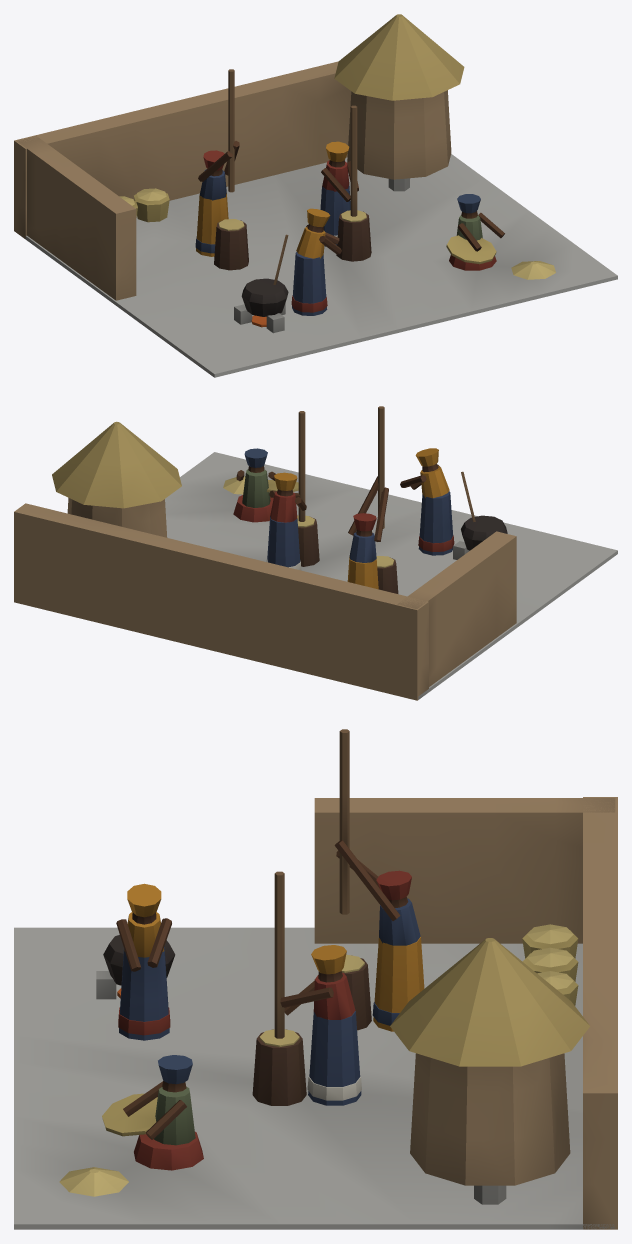
The model's file is bakery.glb.
3 renders of one model, top to bottom at view 1: azimuth 30°, elevation 25°; view 2: azimuth 150°, elevation 25°; view 3: azimuth 270°, elevation 25°, orthographic. The views are drawn at different scales.
Visible parts, largest first — view 1: base; view 2: base; view 3: base.
Boxes of the visible parts, x1=… form: base: x1=14, y1=14, x2=617, y2=377; base: x1=14, y1=406, x2=617, y2=700; base: x1=14, y1=729, x2=617, y2=1229.
Bounding box in the file's own units: 7 × 3.25 × 6.02.
